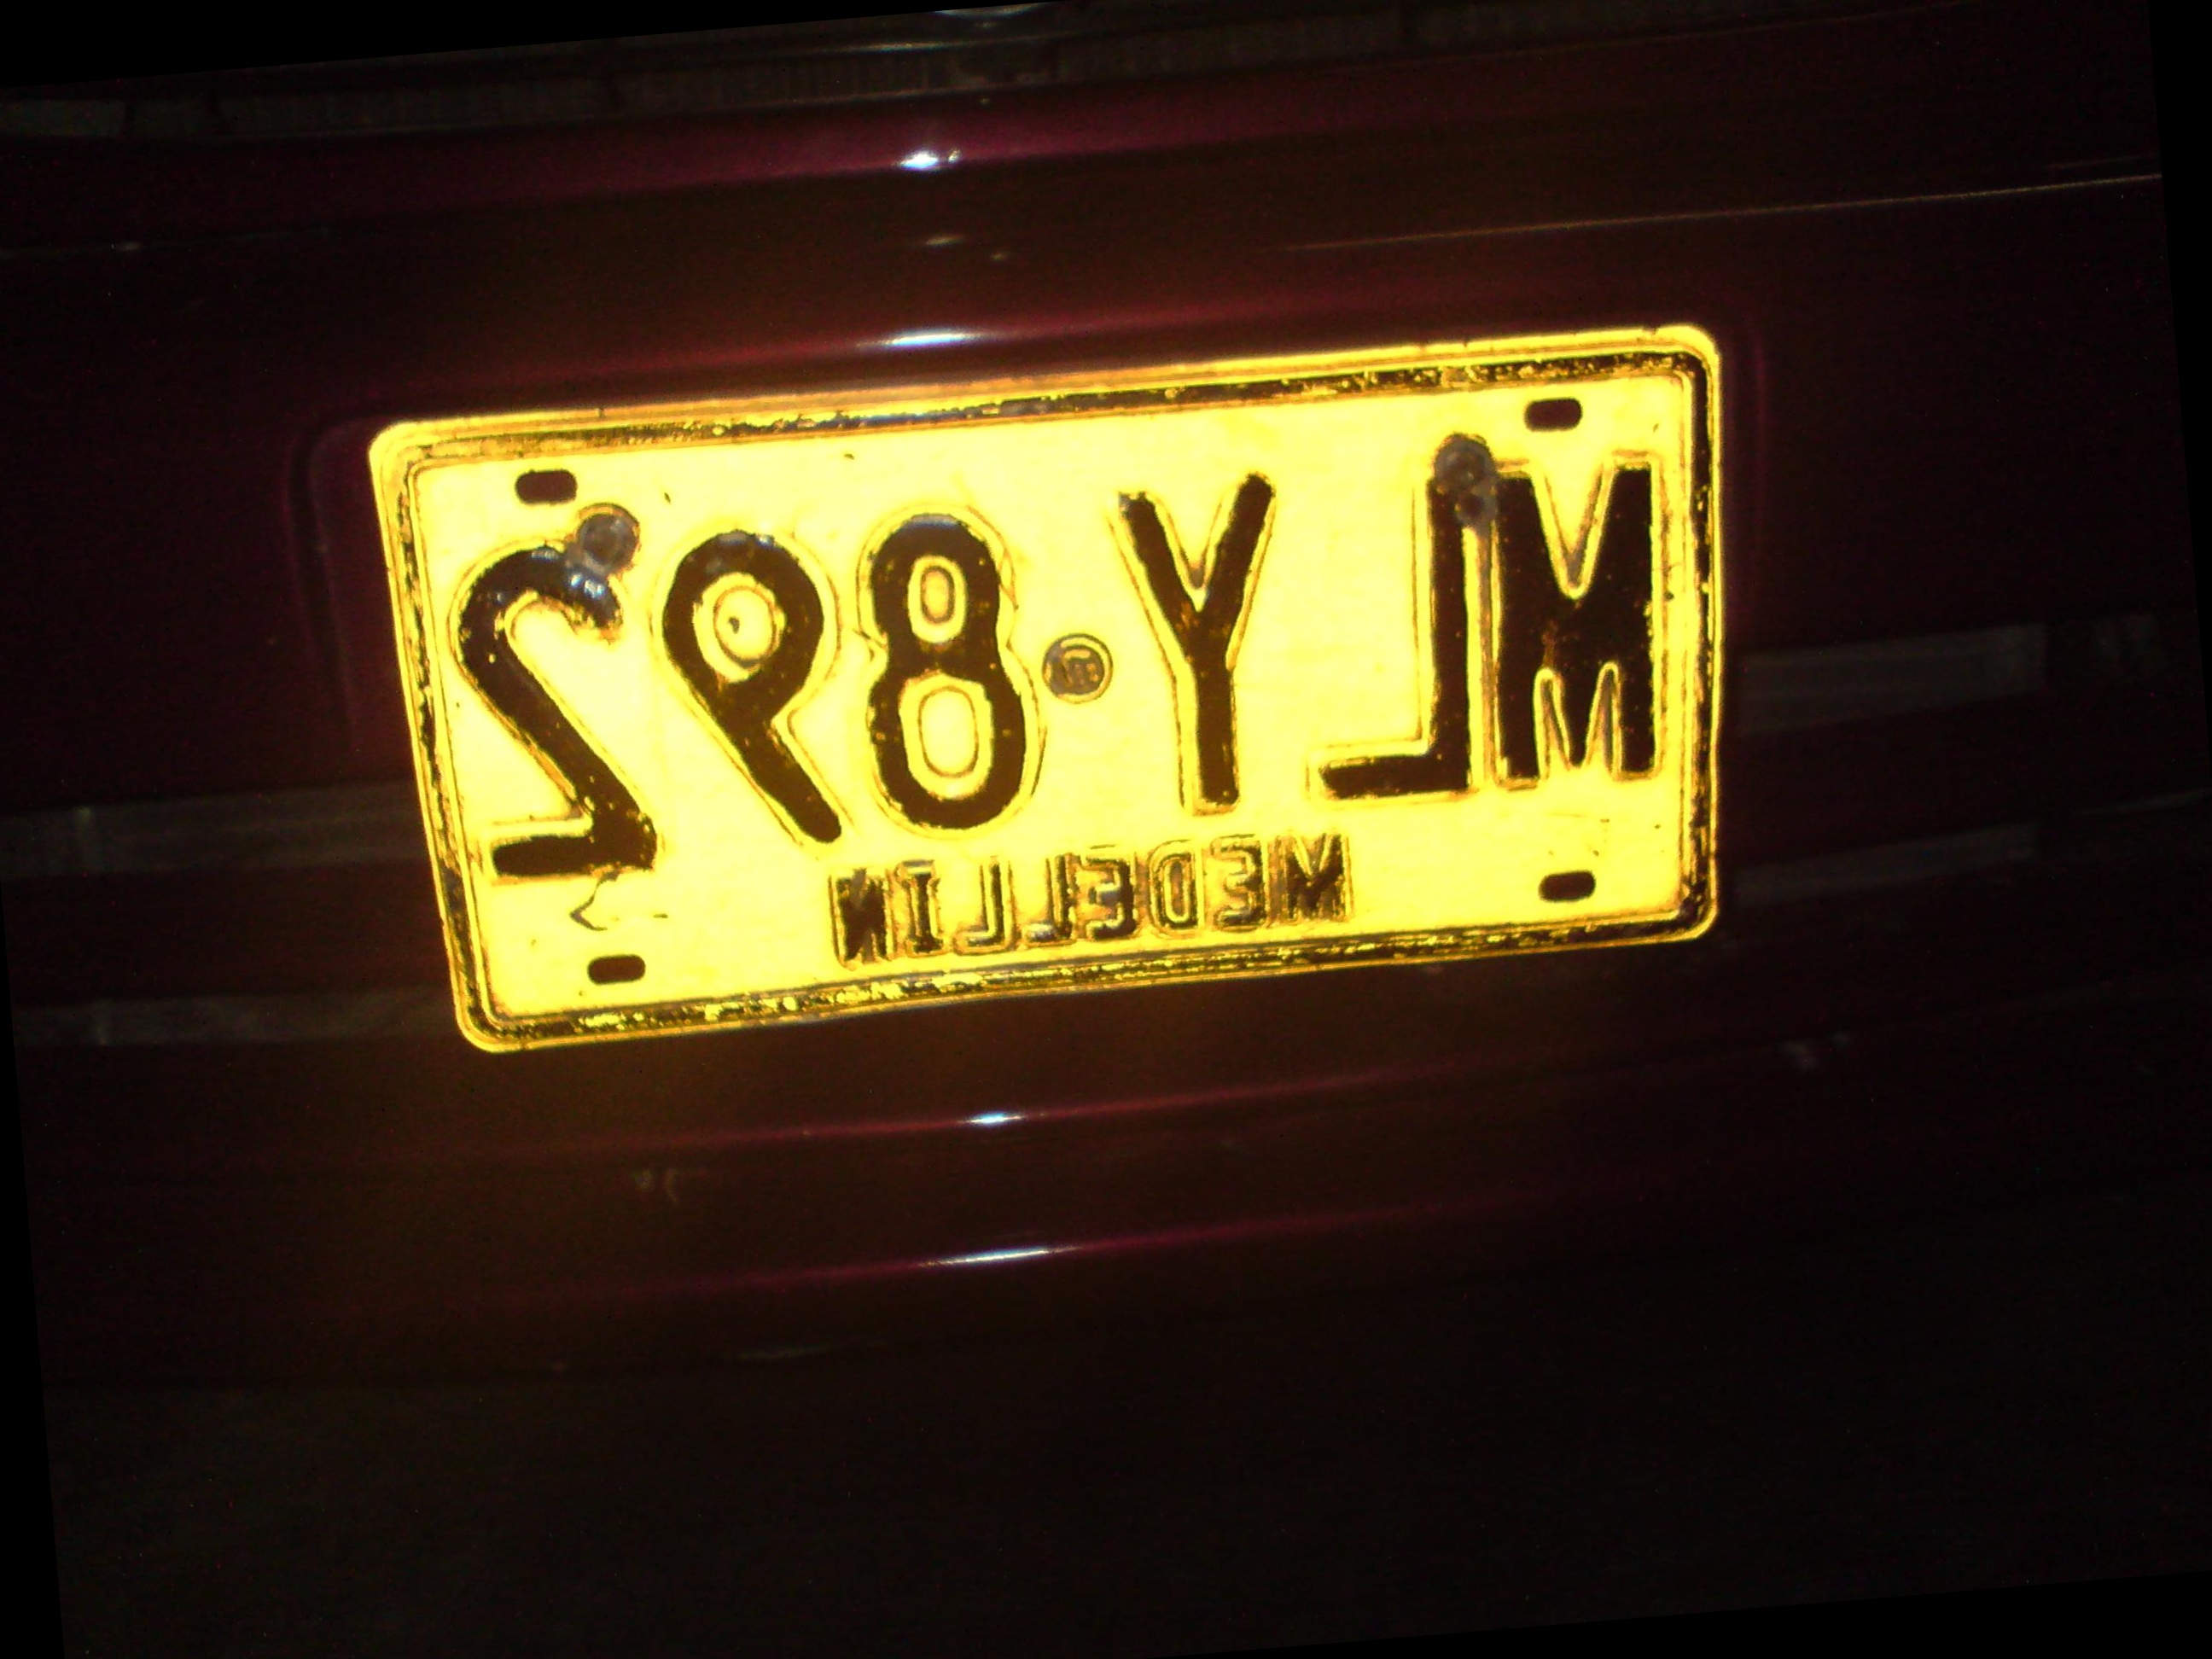placas: (346, 289, 1784, 1078)
